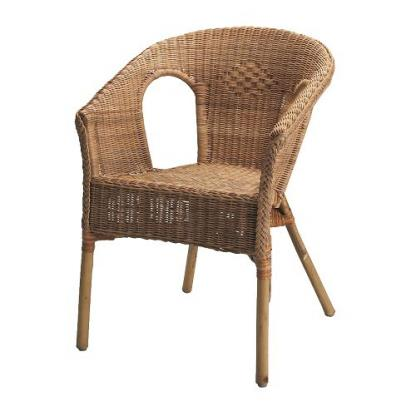Chair: (72, 24, 335, 387)
